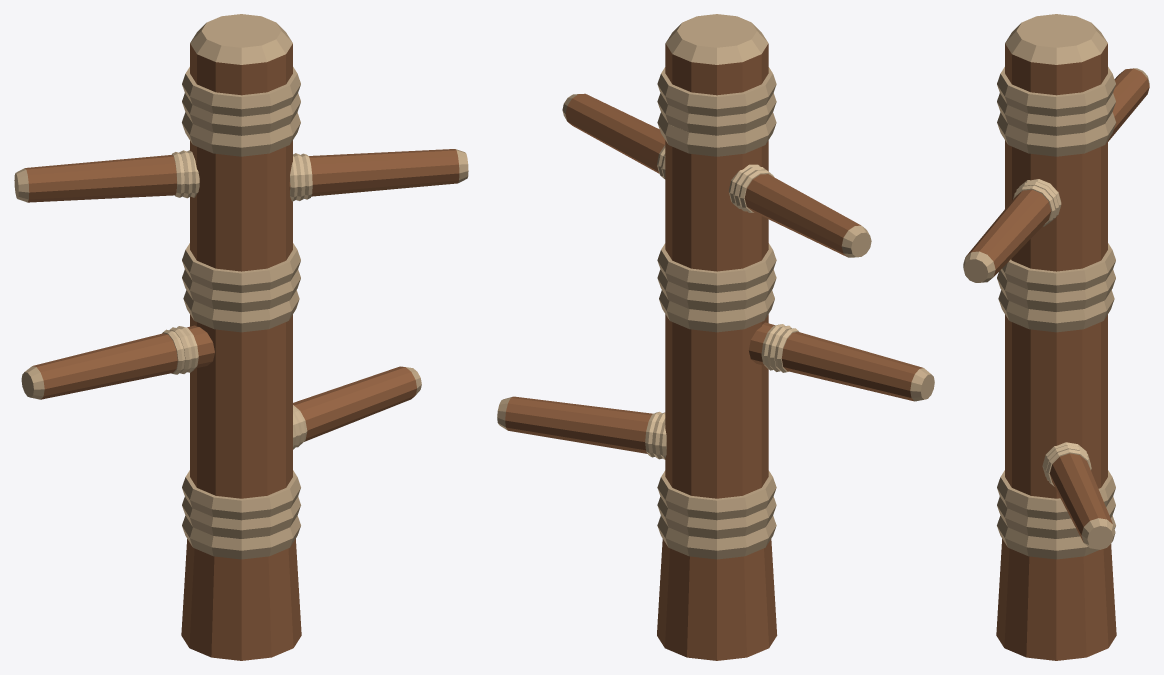
The model's file is TrainingPole_1.fbx.
3 views of the same model, side by side, from view 1: azimuth 30°, elevation 25°; view 2: azimuth 150°, elevation 25°; view 3: azimuth 270°, elevation 25° (orthographic).
Visible parts, largest first — view 1: TrainingPole_1; view 2: TrainingPole_1; view 3: TrainingPole_1.
Part boxes in pixels (x1,y1,x2,y2): TrainingPole_1: [14, 14, 468, 660]; TrainingPole_1: [497, 14, 934, 660]; TrainingPole_1: [963, 14, 1149, 660].
Bounding box in the file's own units: 72.71 × 103 × 28.77.
